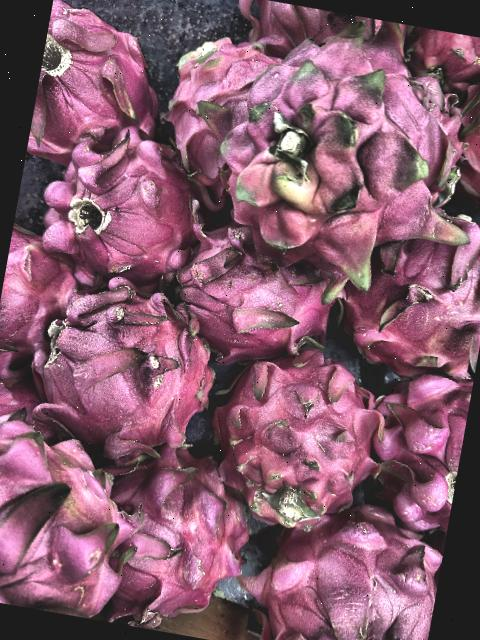buah-naga-belum-matang: (199, 23, 480, 297)
buah-naga-matang: (18, 268, 242, 474), (188, 328, 399, 530), (82, 436, 270, 630), (0, 399, 155, 623), (20, 117, 222, 286), (232, 488, 448, 640), (159, 214, 352, 366), (141, 23, 295, 209), (26, 0, 178, 171), (340, 204, 480, 387), (351, 356, 474, 530), (0, 212, 100, 403), (228, 0, 391, 61), (399, 24, 480, 91), (451, 58, 480, 201)
